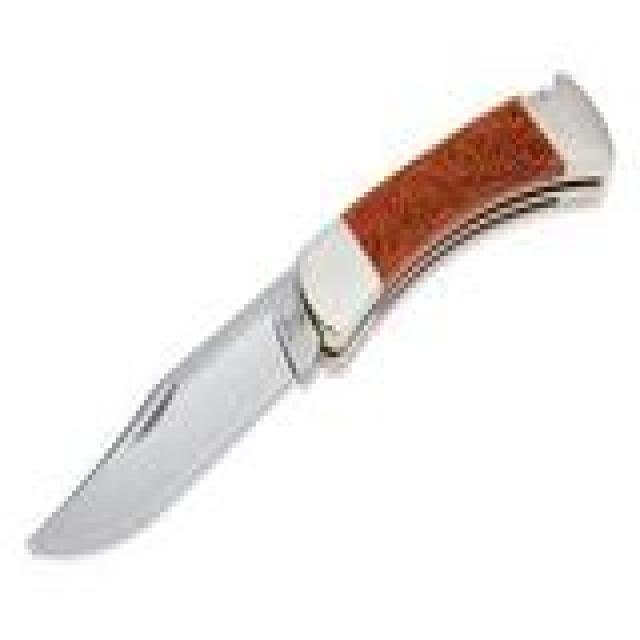Knife: (14, 69, 629, 582)
